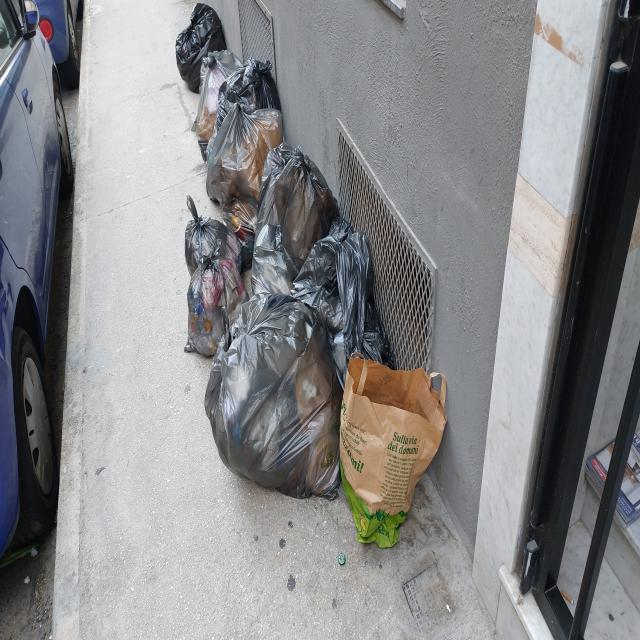Mixed Waste -Black Bag-: (205, 302, 342, 498), (296, 222, 395, 370), (249, 145, 339, 307), (201, 49, 282, 204), (183, 266, 251, 357), (176, 4, 235, 90), (186, 217, 244, 280)
